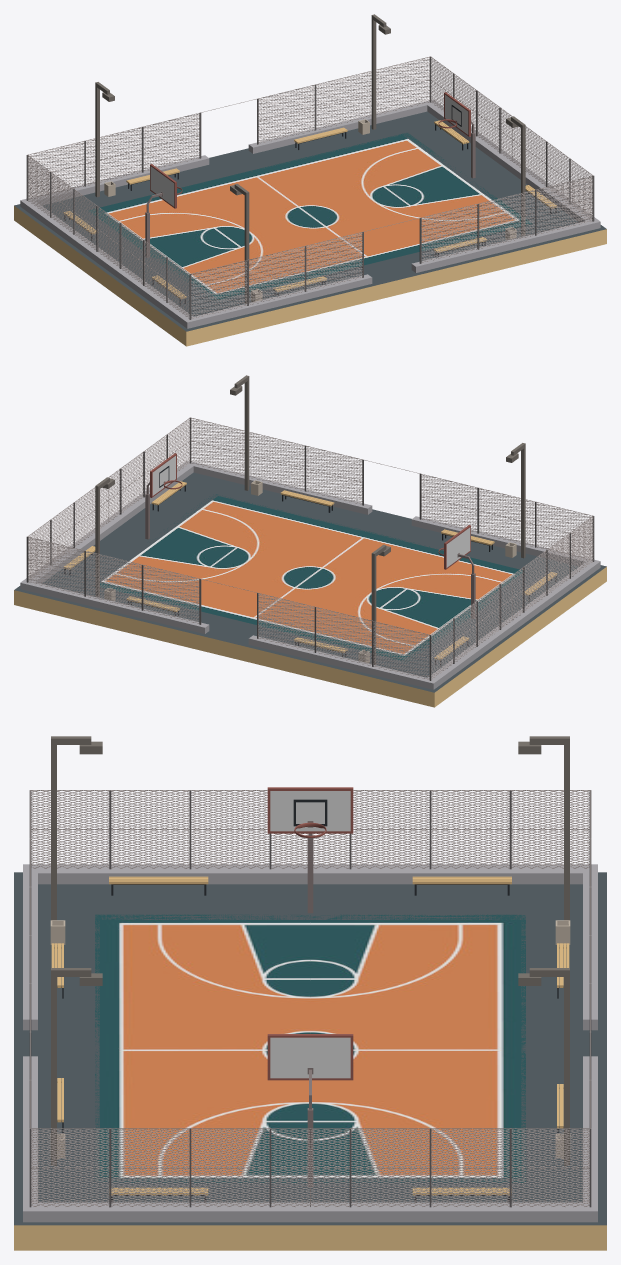
The model's file is Basketball_Court.fbx.
The picture shows the model from 3 angles, top to bottom: view 1: azimuth 30°, elevation 25°; view 2: azimuth 150°, elevation 25°; view 3: azimuth 270°, elevation 25°; orthographic projection. The views are drawn at different scales.
Visible parts, largest first — view 1: Base, Court, Light Pillars, Benches, Basketball_Stand, Mesh_Bars, Dust_Bin; view 2: Base, Court, Light Pillars, Benches, Basketball_Stand, Mesh_Bars, Dust_Bin; view 3: Base, Court, Basketball_Stand, Light Pillars, Benches, Mesh_Bars, Dust_Bin.
Boxes of the visible parts, box(x1,y1,x2,y2) form: Base: box(14, 57, 606, 346); Court: box(88, 133, 532, 300); Light Pillars: box(95, 14, 525, 303); Benches: box(63, 120, 556, 305); Basketball_Stand: box(145, 92, 475, 257); Mesh_Bars: box(27, 56, 593, 296); Dust_Bin: box(104, 119, 516, 302); Base: box(14, 418, 606, 707); Court: box(100, 494, 522, 662); Light Pillars: box(95, 375, 525, 664); Benches: box(64, 481, 557, 666); Basketball_Stand: box(145, 453, 475, 618); Mesh_Bars: box(27, 417, 593, 657); Dust_Bin: box(104, 480, 516, 663); Base: box(14, 790, 606, 1250); Court: box(95, 914, 525, 1182); Basketball_Stand: box(267, 787, 353, 1186); Light Pillars: box(51, 736, 569, 1165); Benches: box(51, 876, 569, 1202); Mesh_Bars: box(30, 790, 590, 1168); Dust_Bin: box(50, 920, 570, 1158).
Size of the model in its own units: 579 by 169 by 411.
